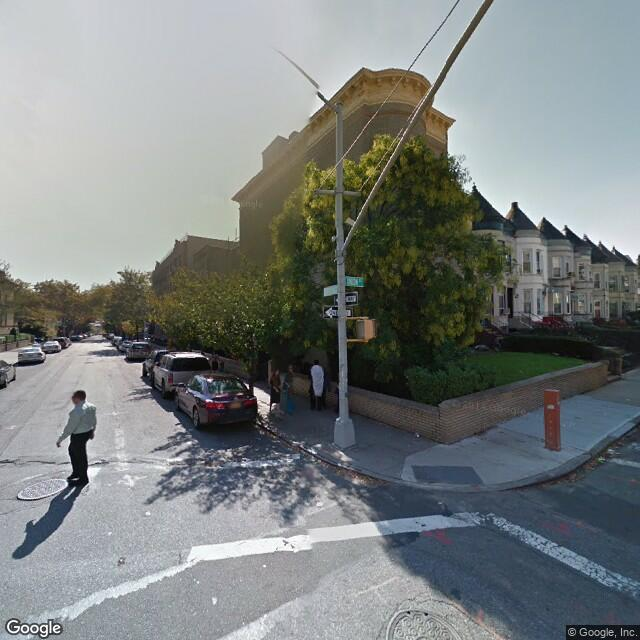litter: (606, 447, 617, 457), (207, 595, 219, 604), (596, 453, 606, 462), (413, 431, 420, 440)
